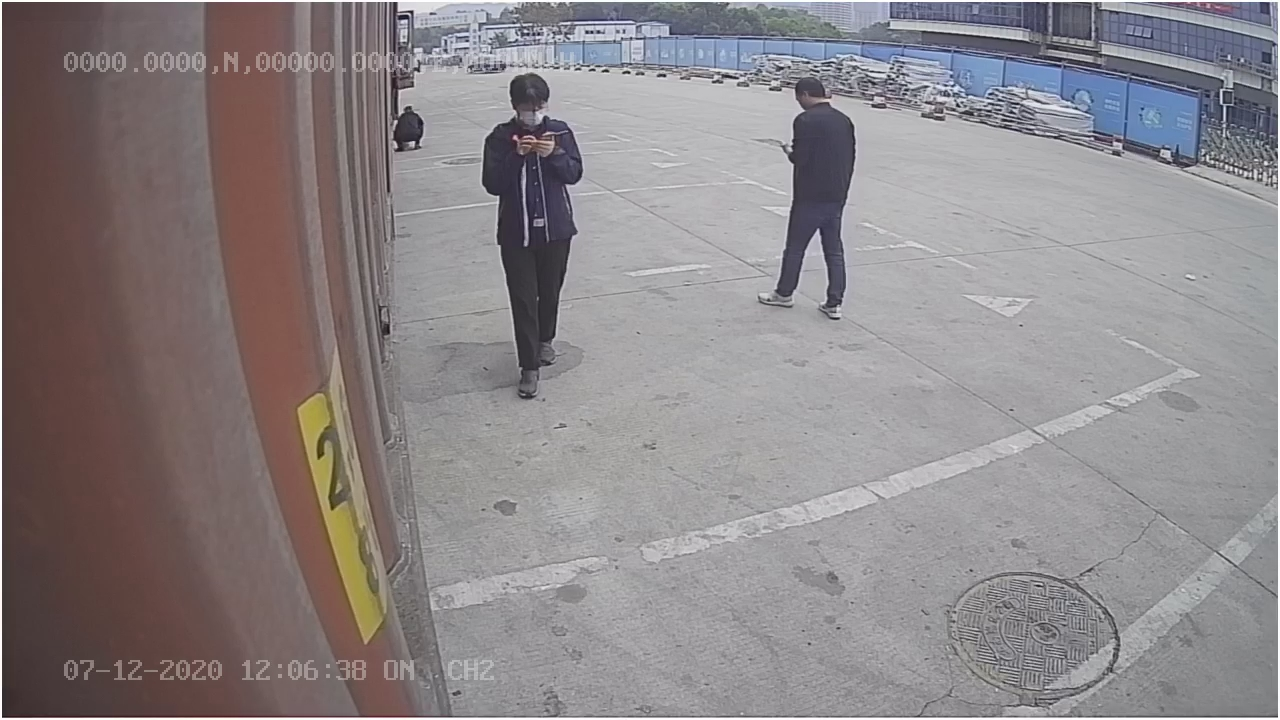person: (473, 73, 597, 395), (756, 72, 863, 323)
